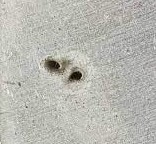Spalling: (40, 55, 67, 74), (67, 66, 86, 84)
